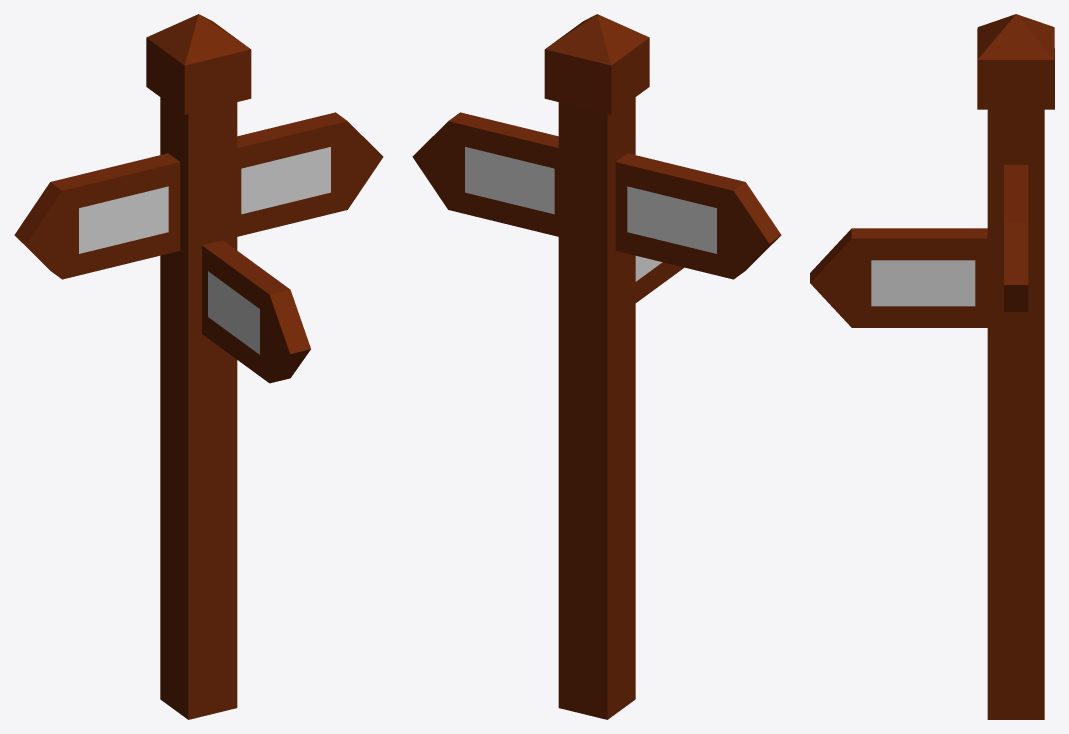
Rendered from Direction_pole_1.FBX.
The picture shows the model from 3 angles, left to right: view 1: azimuth 30°, elevation 25°; view 2: azimuth 150°, elevation 25°; view 3: azimuth 270°, elevation 25°; orthographic projection.
Parts seen in each view (by area): view 1: Direction_pole_1; view 2: Direction_pole_1; view 3: Direction_pole_1.
Part boxes in pixels (x1=…): Direction_pole_1: x1=14, y1=14, x2=383, y2=719; Direction_pole_1: x1=412, y1=14, x2=781, y2=719; Direction_pole_1: x1=810, y1=14, x2=1054, y2=719.
Size of the model in its own units: 1.01 by 1.86 by 0.5955.
1 material, 1 textured.
